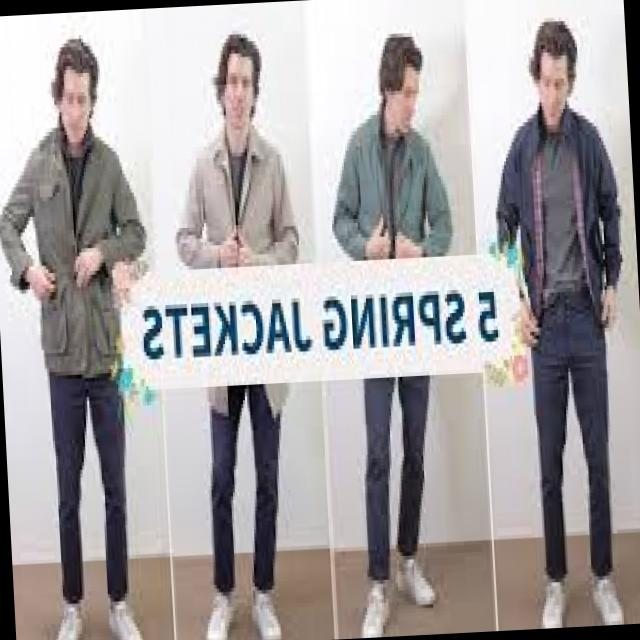Jacket: (302, 110, 451, 438), (11, 127, 146, 376), (505, 107, 635, 352), (190, 134, 289, 426)
